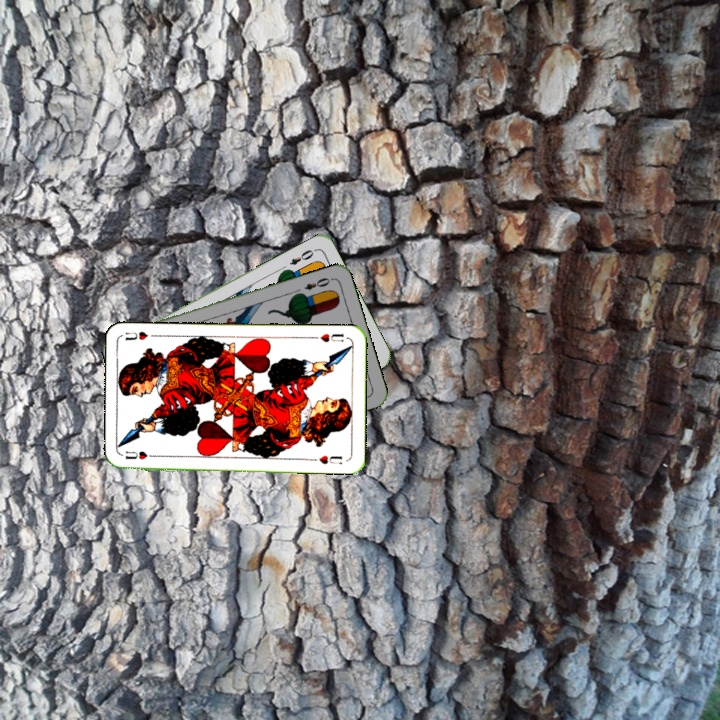EO: (285, 245, 319, 268), (300, 273, 335, 293)
HU: (309, 329, 346, 345), (121, 447, 160, 462)
